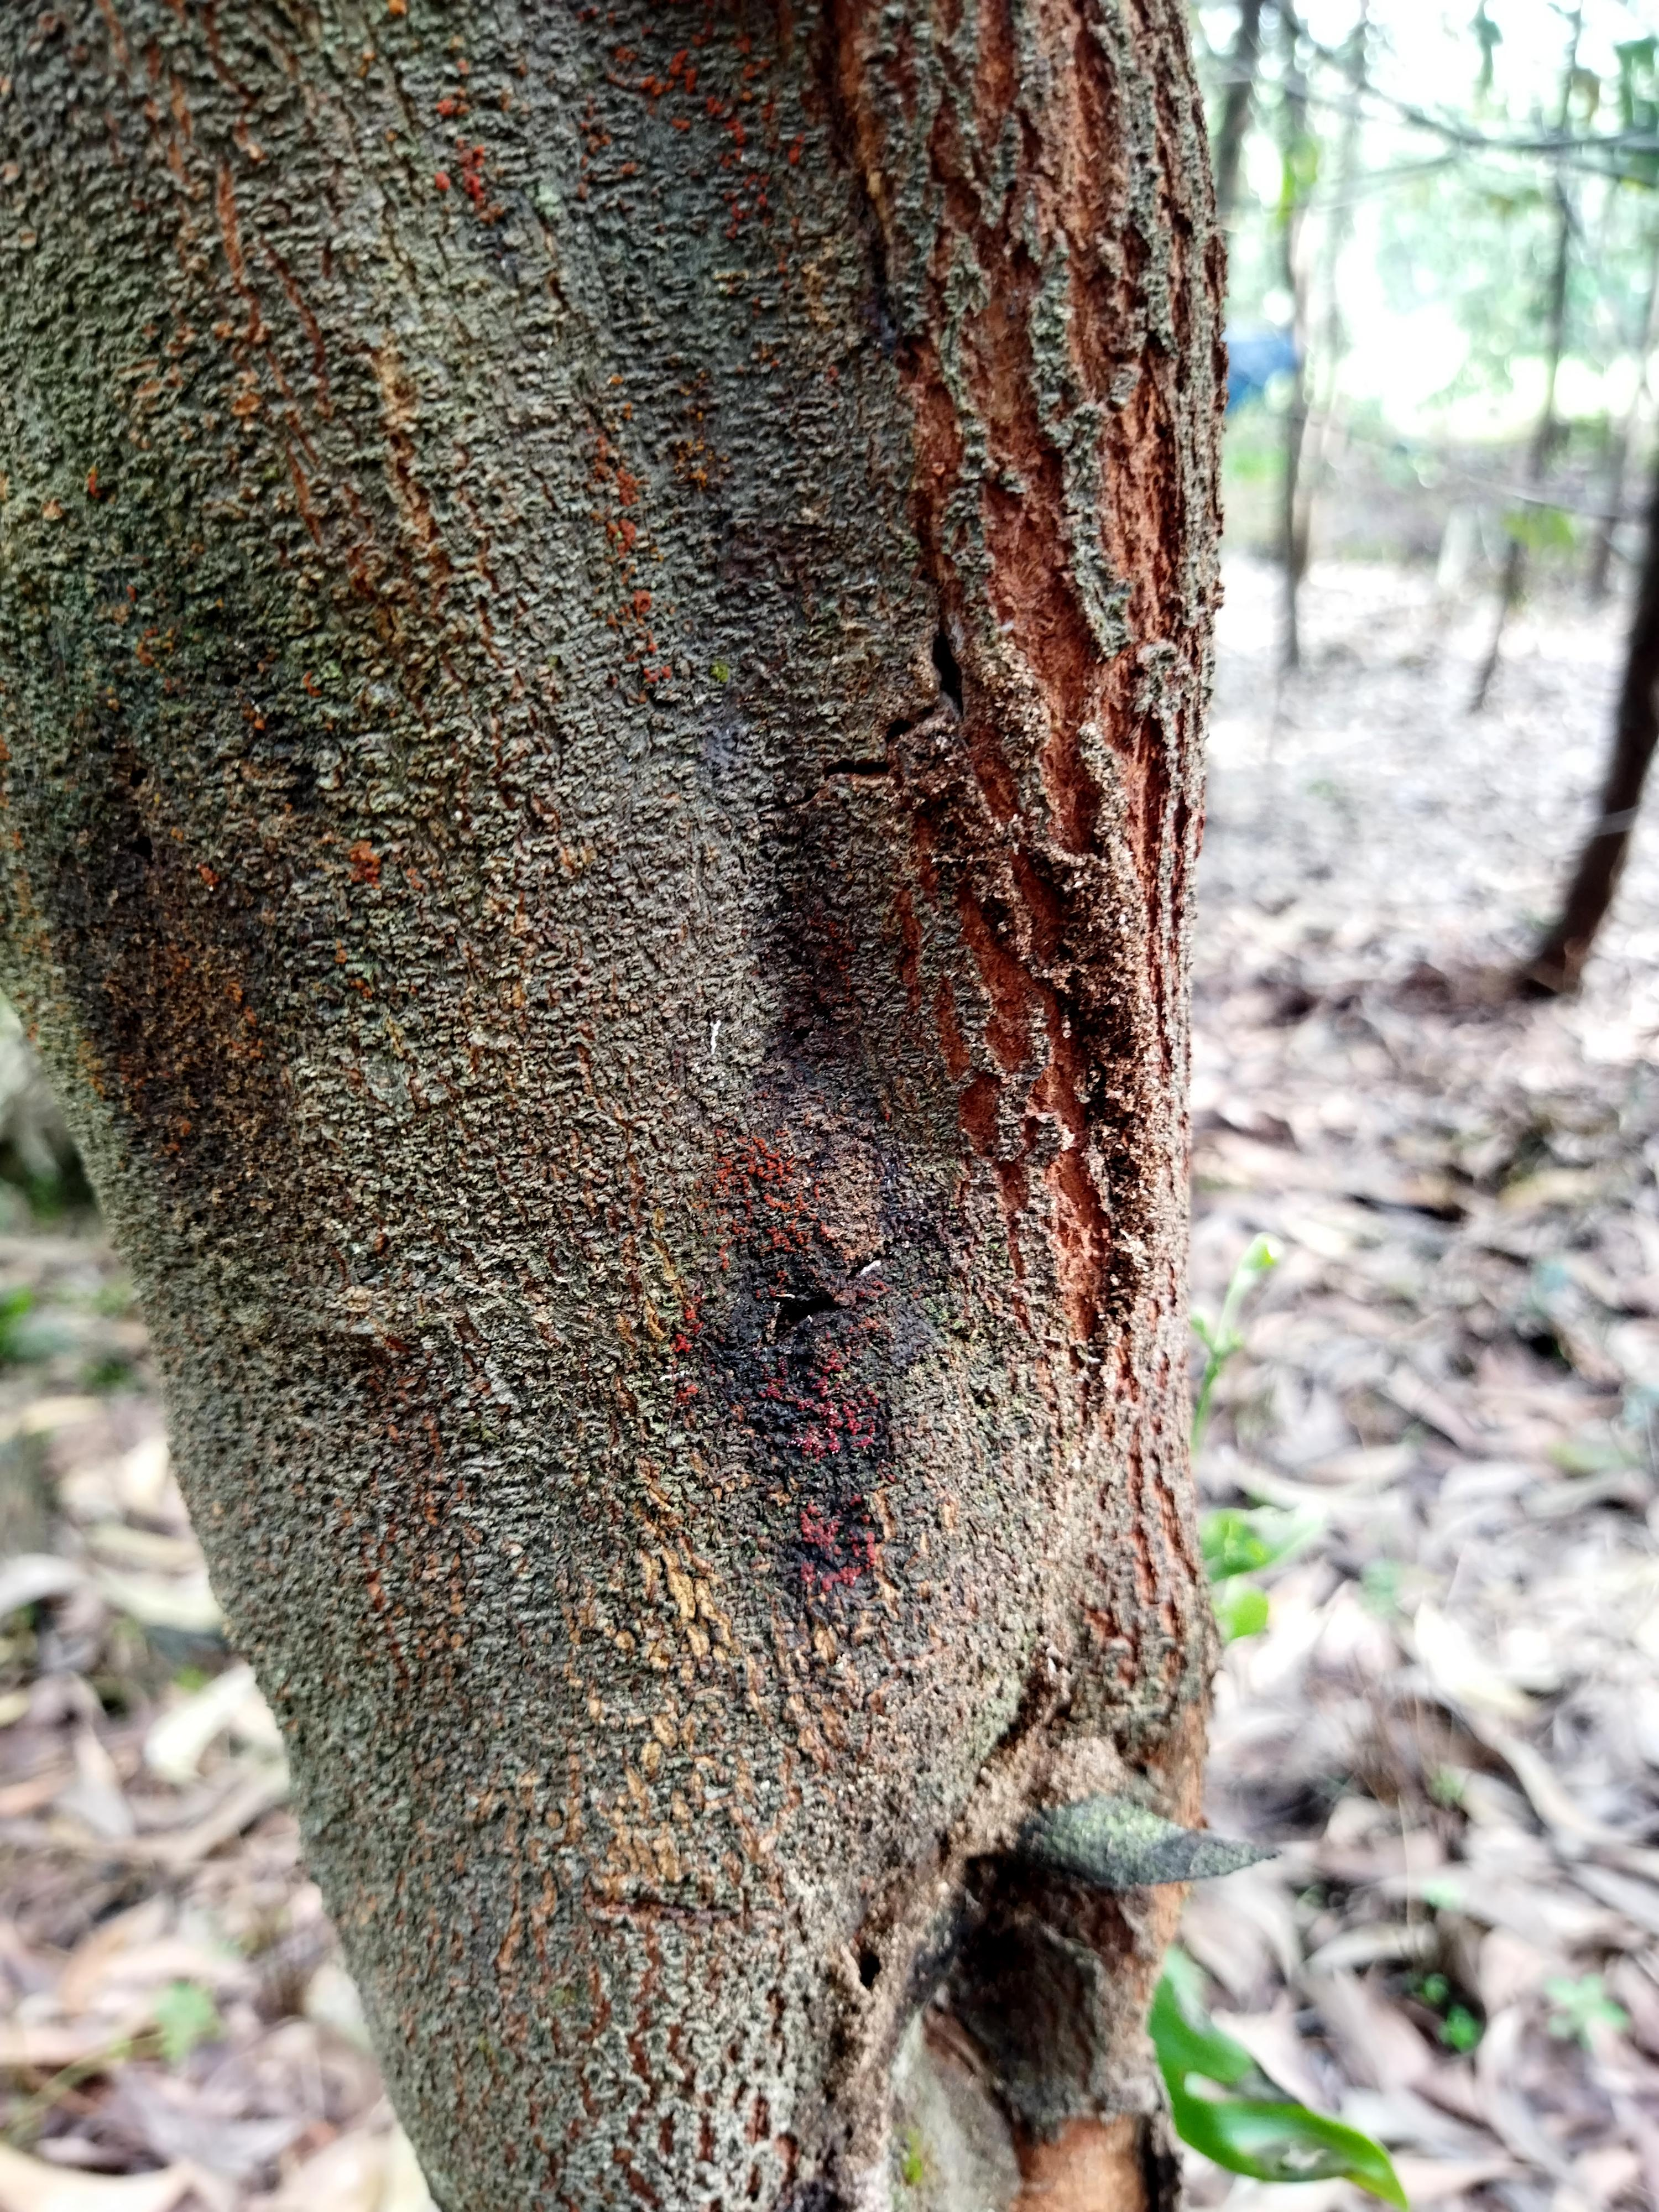Stem Borer: (0, 725, 390, 1012), (643, 1184, 934, 1505)
Stem Deformation: (737, 2, 1239, 1129)
